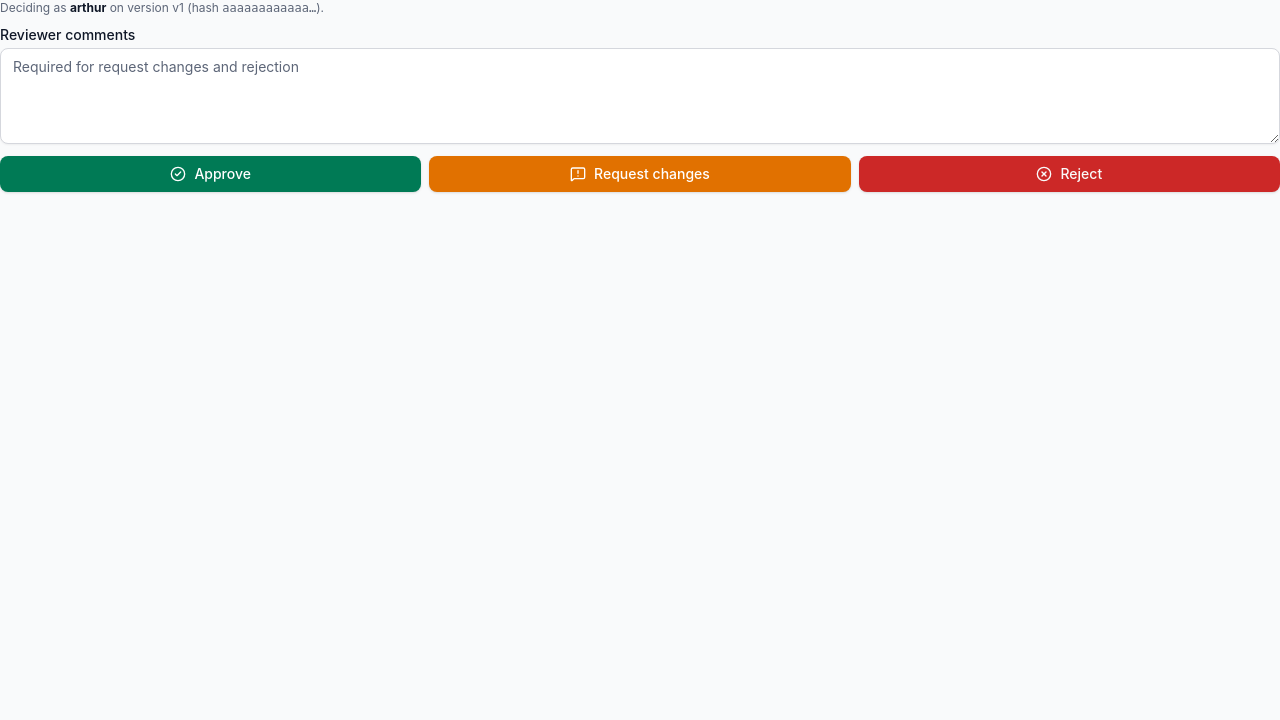
Test: DecisionPanel › shows the backend's refusal (e.g. separation of duties)
Step 1. Click the button "Approve" → (211,174), box [0,156,421,192]
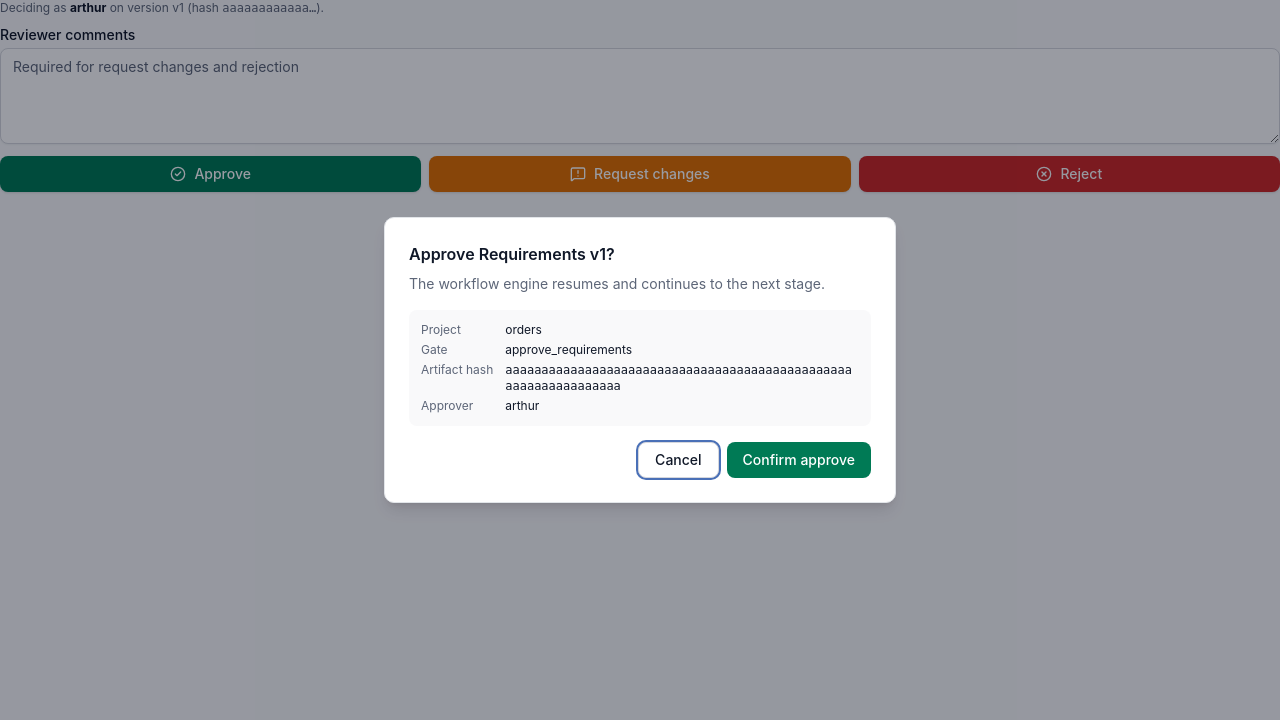
Step 2. Click the button "Confirm approve" → (799,460), box [727,442,871,478]
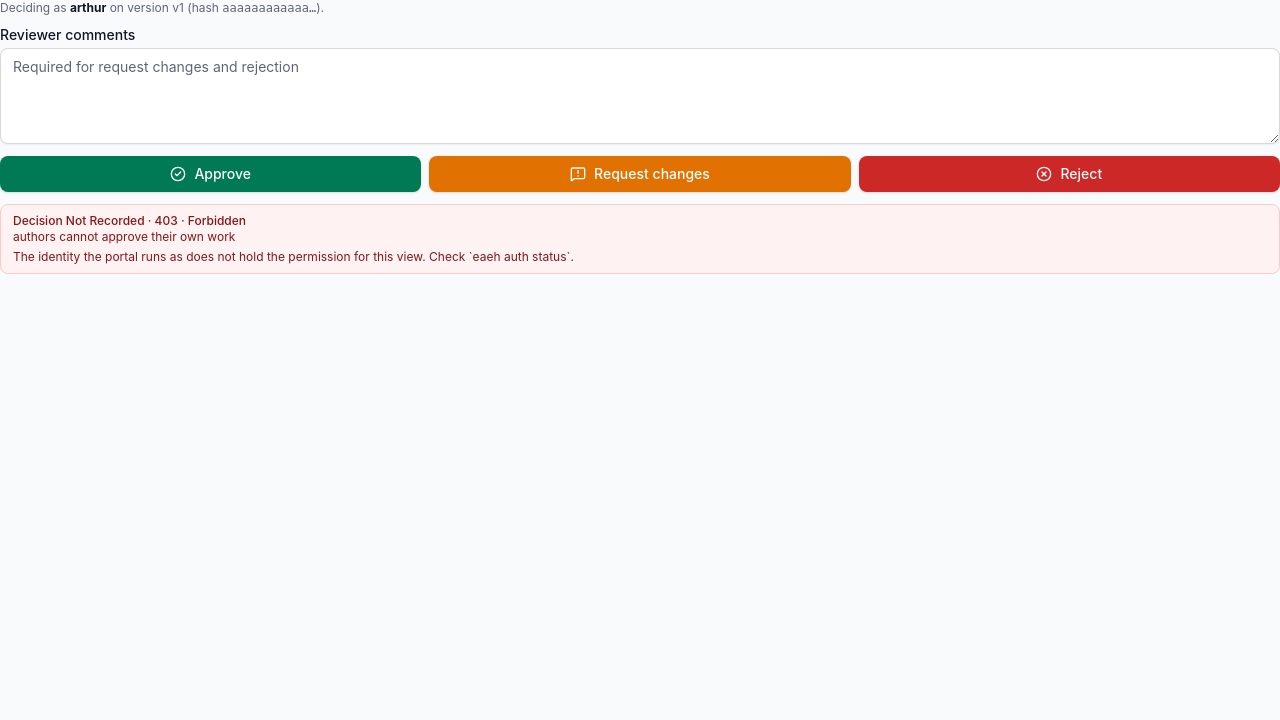
Now the text "authors cannot approve their own work" is shown, box [13,229,235,244]
